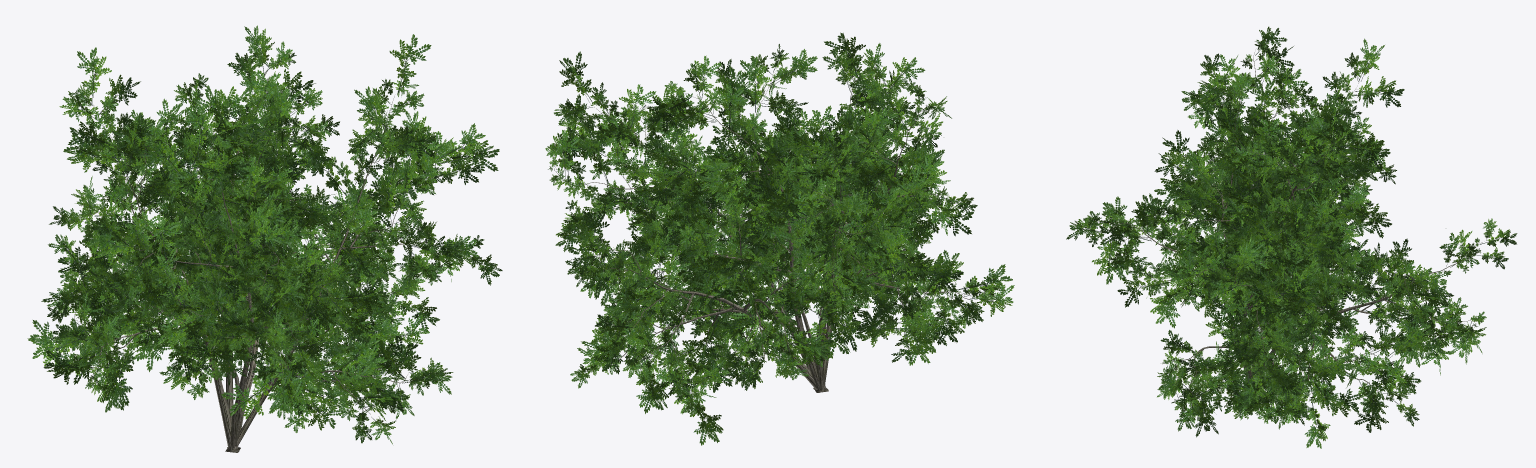
The model's file is tree_LOD0.glb.
3 views of the same model, side by side, from view 1: azimuth 30°, elevation 25°; view 2: azimuth 150°, elevation 25°; view 3: azimuth 270°, elevation 25° (orthographic). The views are drawn at different scales.
Visible parts, largest first — view 1: Leaves_LOD0, Branches_LOD0; view 2: Leaves_LOD0, Branches_LOD0; view 3: Leaves_LOD0, Branches_LOD0.
Boxes of the visible parts, x1=… form: Leaves_LOD0: x1=27, y1=25, x2=502, y2=444; Branches_LOD0: x1=74, y1=71, x2=434, y2=452; Leaves_LOD0: x1=545, y1=32, x2=1014, y2=445; Branches_LOD0: x1=556, y1=72, x2=972, y2=392; Leaves_LOD0: x1=1066, y1=26, x2=1517, y2=448; Branches_LOD0: x1=1101, y1=52, x2=1482, y2=405.
Bounding box in the file's own units: 34.98 × 28.28 × 33.88.
2 materials, 2 textured.
